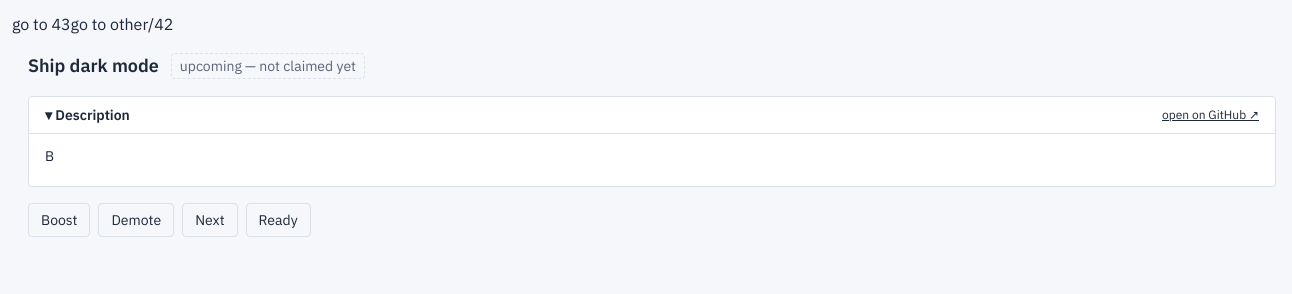
Test case: a failing queue action from the ghost view surfaces its error text
The width and height of the screenshot is (1292, 294).
Click the button "Boost": x=59, y=220 [28, 203, 90, 237]
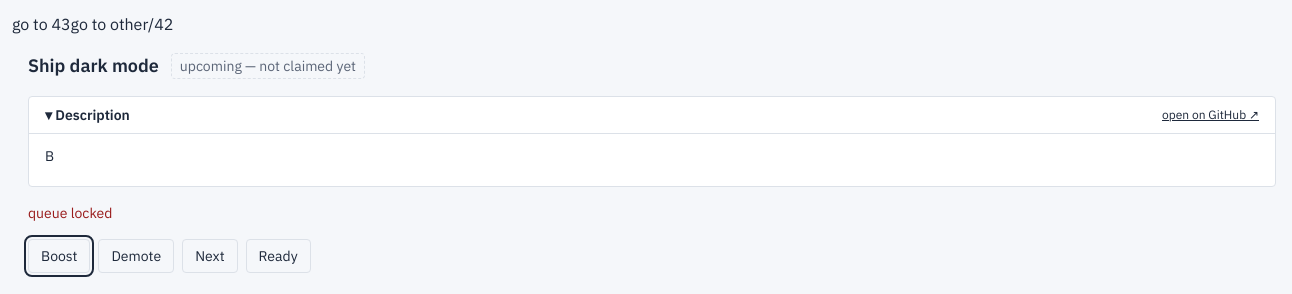
Now the text with test id "queue-error" reads "queue locked", box [28, 204, 112, 222]
